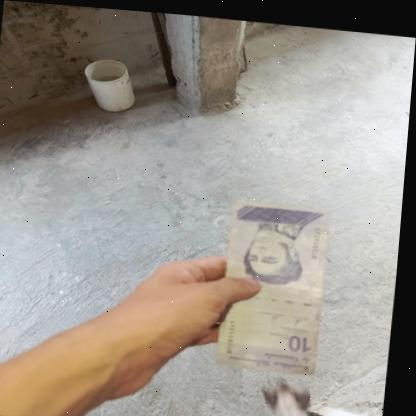ten-front-vef: (221, 192, 334, 370)
